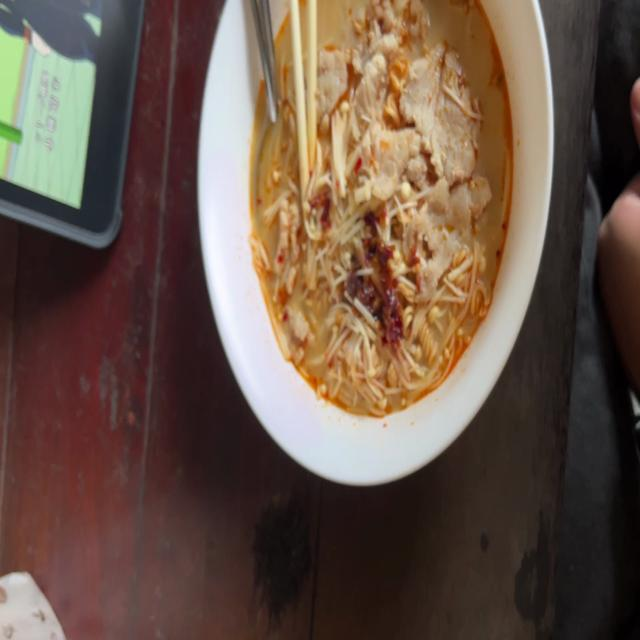noodle: (243, 0, 516, 412)
